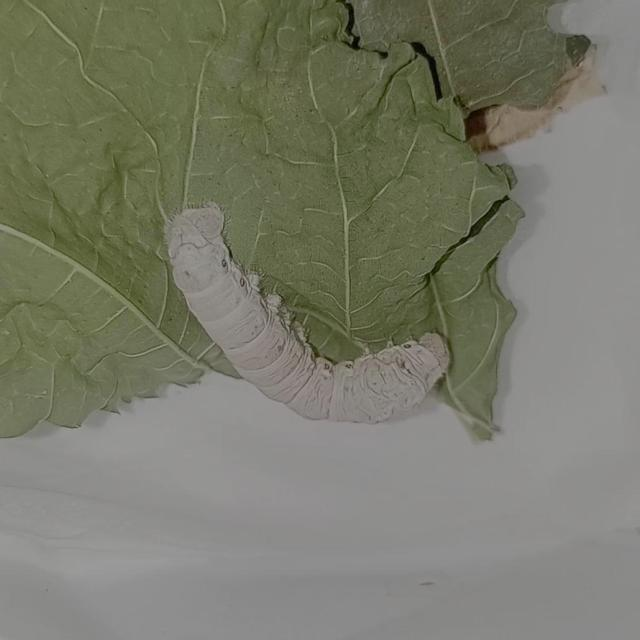Healthy: (140, 179, 468, 443)
